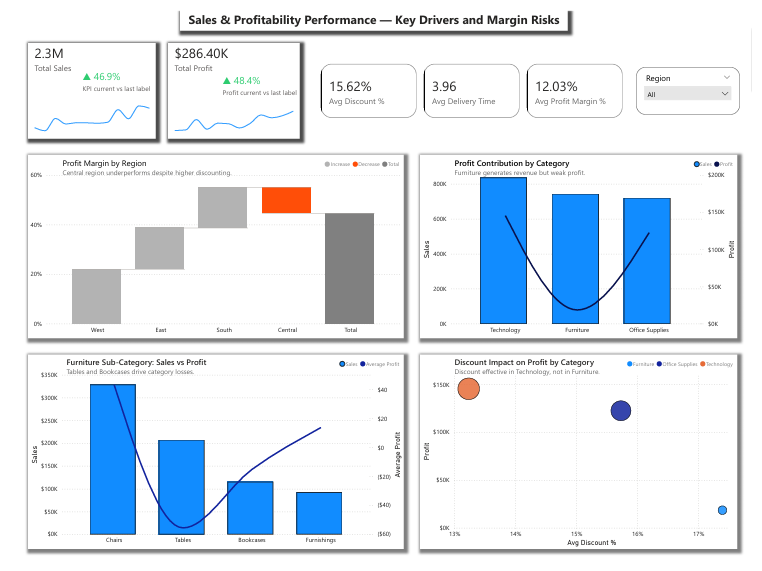

Layout of this report page (visuals, bound fields, positions):
{"tool":"powerbi","page":{"name":"Page 1","canvas":[1480,1100],"ordinal":0},"visuals":[{"type":"cardVisual","fields":{"Data":["Sample_Superstore_Dataset.Total Sales"]},"box":[32,64,256,104],"z":0,"group":"g1"},{"type":"cardVisual","fields":{"Data":["Sample_Superstore_Dataset.Total Profit"]},"box":[312,64,264,104],"z":0,"group":"g2"},{"type":"cardVisual","fields":{"Data":["Sample_Superstore_Dataset.Avg Discount %","Sample_Superstore_Dataset.Avg_Dilivery_Time","Sample_Superstore_Dataset.Avg Profit Margin%"]},"box":[608,96,624,128],"z":0},{"type":"lineStackedColumnComboChart","fields":{"Category":["Sample_Superstore_Dataset.Sub-Category"],"Y2":["Avg(Sample_Superstore_Dataset.Profit)"],"Y":["Sum(Sample_Superstore_Dataset.Sales)"]},"box":[32,688,752,390],"z":0},{"type":"cardVisual","fields":{"Data":["Sample_Superstore_Dataset.KPI current vs last label"]},"box":[136,112,152,56],"z":1000,"group":"g1"},{"type":"lineChart","fields":{"Category":["Sample_Superstore_Dataset.Order_Month_Name"],"Y":["Sample_Superstore_Dataset.Total Profit"]},"box":[312,168,264,88],"z":1000,"group":"g2"},{"type":"waterfallChart","title":"Profit Margin by Region","fields":{"Category":["Sample_Superstore_Dataset.Region"],"Y":["Sample_Superstore_Dataset.Avg Profit Margin%"]},"box":[32,288,752,368],"z":1000},{"type":"textbox","box":[104,688,304,48],"z":1000},{"type":"cardVisual","fields":{"Data":["Sample_Superstore_Dataset.Profit current vs last label"]},"box":[416,120,160,56],"z":2000,"group":"g2"},{"type":"lineChart","fields":{"Category":["Sample_Superstore_Dataset.Order_Month_Name"],"Y":["Sample_Superstore_Dataset.Total Sales"]},"box":[32,168,256,88],"z":2000,"group":"g1"},{"type":"lineClusteredColumnComboChart","title":"Profit Contribution by Category","fields":{"Category":["Sample_Superstore_Dataset.Category"],"Y":["Sample_Superstore_Dataset.Total Sales"],"Y2":["Sample_Superstore_Dataset.Total Profit"]},"box":[816,288,635,368],"z":2000},{"type":"scatterChart","title":"Discount Impact on Profit by Category","fields":{"X":["Sample_Superstore_Dataset.Avg Discount %"],"Y":["Sum(Sample_Superstore_Dataset.Profit)"],"Category":["Sample_Superstore_Dataset.Category"],"Size":["Sample_Superstore_Dataset.Total Profit"],"Series":["Sample_Superstore_Dataset.Category"]},"box":[816,688,635,390],"z":3000},{"type":"slicer","fields":{"Values":["Sample_Superstore_Dataset.Region"]},"box":[1248,112,208,96],"z":4000},{"type":"group","id":"g1","title":"Sales KPI","box":[32,64,256,192],"z":5000},{"type":"group","id":"g2","title":"Profit KPI","box":[312,64,264,192],"z":6000},{"type":"textbox","title":"Sales & Profitability Performance — Key Drivers and Margin Risks","box":[336,0,776,40],"z":7000},{"type":"textbox","box":[96,288,352,48],"z":8000},{"type":"textbox","box":[880,288,320,48],"z":9000},{"type":"textbox","box":[880,688,304,48],"z":10001},{"type":"shape","box":[32,64,256,192],"z":10002},{"type":"shape","box":[312,64,264,192],"z":10003}]}

Visuals, with their boxes in screenshot pixels (x1, y1, x2, y2), scaled from the page's 1480x1100 canvas onto the 762x571 screenshot:
cardVisual - Sample_Superstore_Dataset.Total Sales: <region>16, 33, 148, 87</region>
cardVisual - Sample_Superstore_Dataset.Total Profit: <region>161, 33, 297, 87</region>
cardVisual - Sample_Superstore_Dataset.Avg Discount % x Sample_Superstore_Dataset.Avg_Dilivery_Time: <region>313, 50, 634, 116</region>
lineStackedColumnComboChart - Sample_Superstore_Dataset.Sub-Category x Avg(Sample_Superstore_Dataset.Profit): <region>16, 357, 404, 560</region>
cardVisual - Sample_Superstore_Dataset.KPI current vs last label: <region>70, 58, 148, 87</region>
lineChart - Sample_Superstore_Dataset.Order_Month_Name x Sample_Superstore_Dataset.Total Profit: <region>161, 87, 297, 133</region>
"Profit Margin by Region" waterfallChart: <region>16, 149, 404, 341</region>
textbox: <region>54, 357, 210, 382</region>
cardVisual - Sample_Superstore_Dataset.Profit current vs last label: <region>214, 62, 297, 91</region>
lineChart - Sample_Superstore_Dataset.Order_Month_Name x Sample_Superstore_Dataset.Total Sales: <region>16, 87, 148, 133</region>
"Profit Contribution by Category" lineClusteredColumnComboChart: <region>420, 149, 747, 341</region>
"Discount Impact on Profit by Category" scatterChart: <region>420, 357, 747, 560</region>
slicer - Sample_Superstore_Dataset.Region: <region>643, 58, 750, 108</region>
"Sales KPI" group: <region>16, 33, 148, 133</region>
"Profit KPI" group: <region>161, 33, 297, 133</region>
"Sales & Profitability Performance — Key Drivers and Margin Risks" textbox: <region>173, 0, 573, 21</region>
textbox: <region>49, 149, 231, 174</region>
textbox: <region>453, 149, 618, 174</region>
textbox: <region>453, 357, 610, 382</region>
shape: <region>16, 33, 148, 133</region>
shape: <region>161, 33, 297, 133</region>
